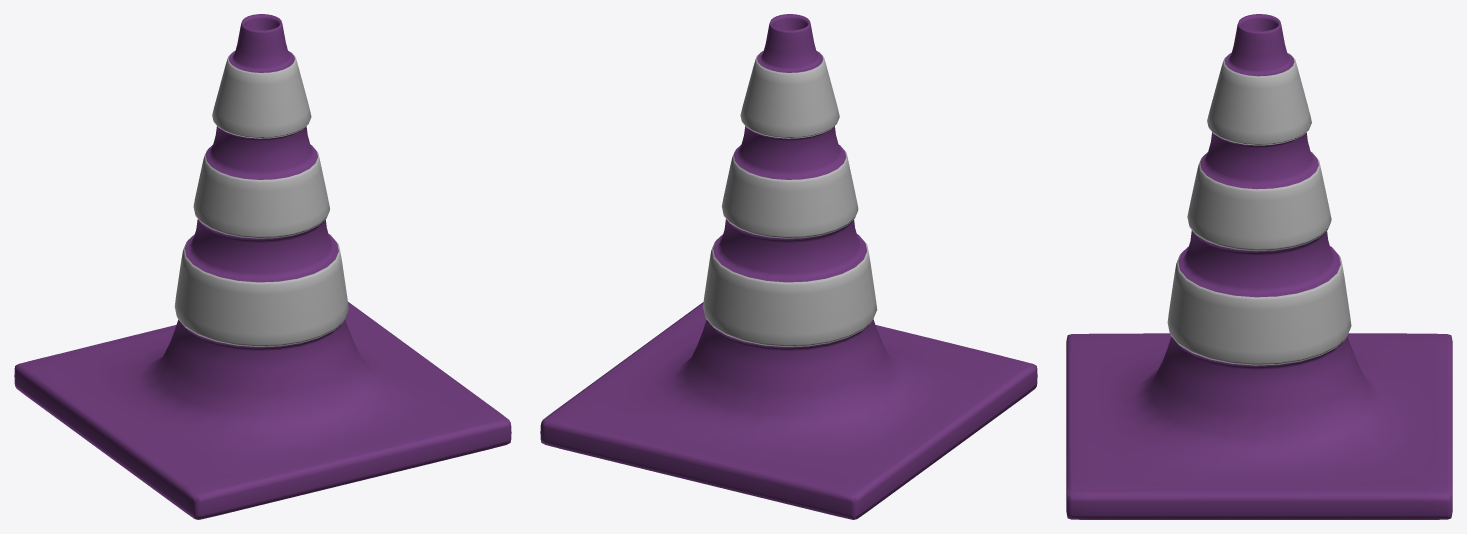
Rendered from ConoLila.fbx.
3 views of the same model, side by side, from view 1: azimuth 30°, elevation 25°; view 2: azimuth 150°, elevation 25°; view 3: azimuth 270°, elevation 25° (orthographic). The views are drawn at different scales.
Parts seen in each view (by area): view 1: Cube.001; view 2: Cube.001; view 3: Cube.001.
Part boxes in pixels (<box>): Cube.001: <box>14,14,511,519</box>; Cube.001: <box>540,14,1037,519</box>; Cube.001: <box>1066,14,1452,519</box>.
Size of the model in its own units: 198 by 236 by 198.
